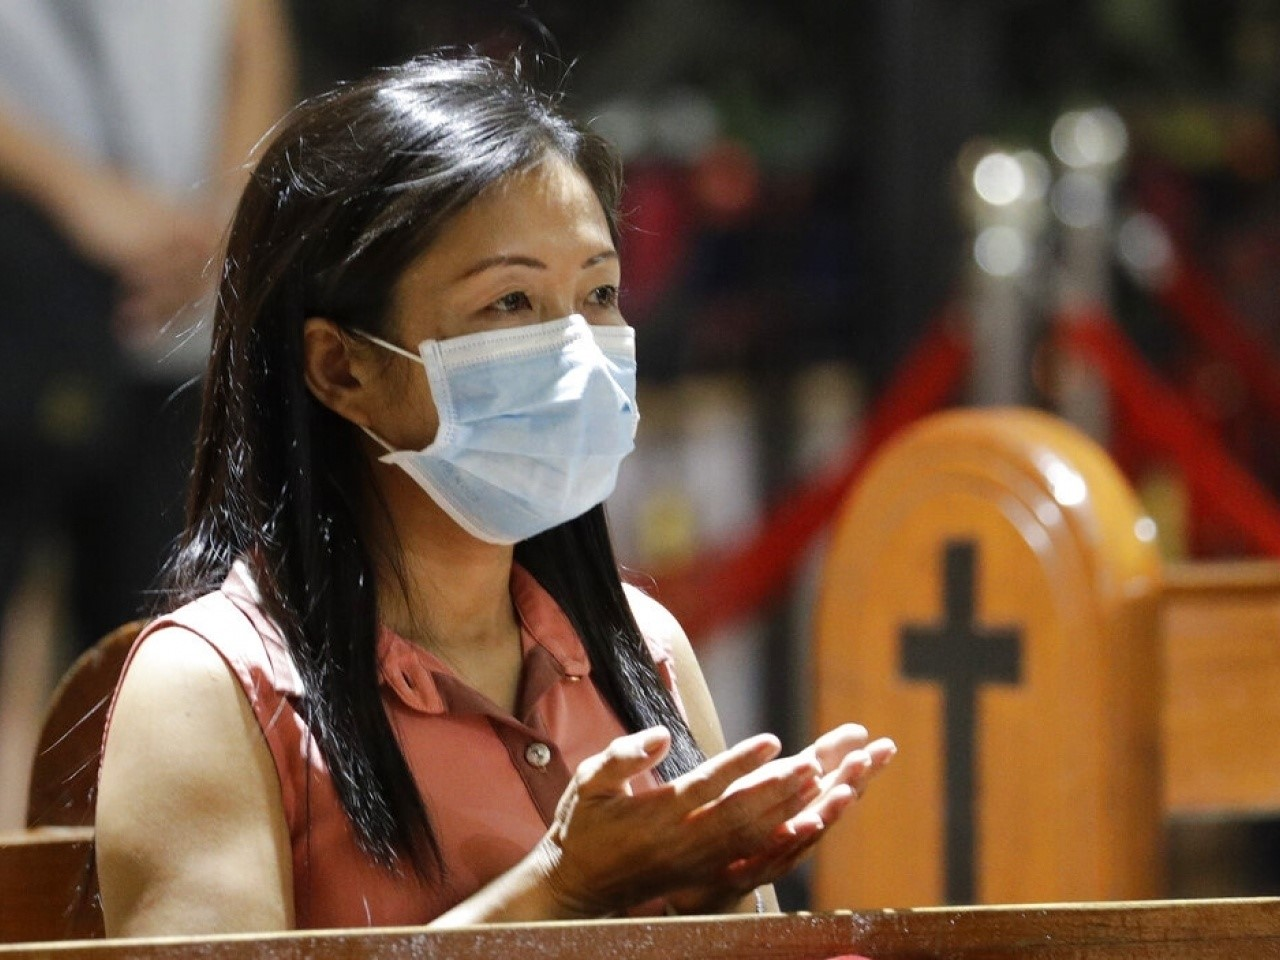face_with_mask: (292, 119, 658, 567)
